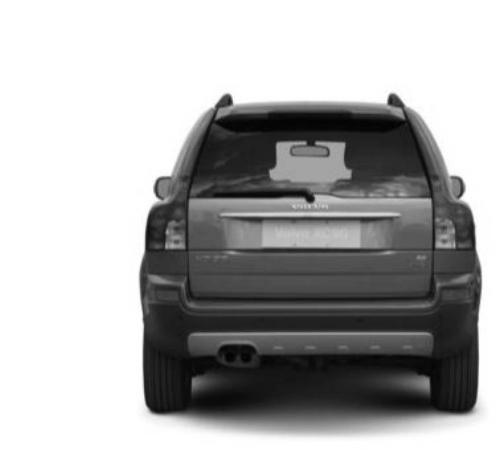car: (137, 93, 488, 416)
